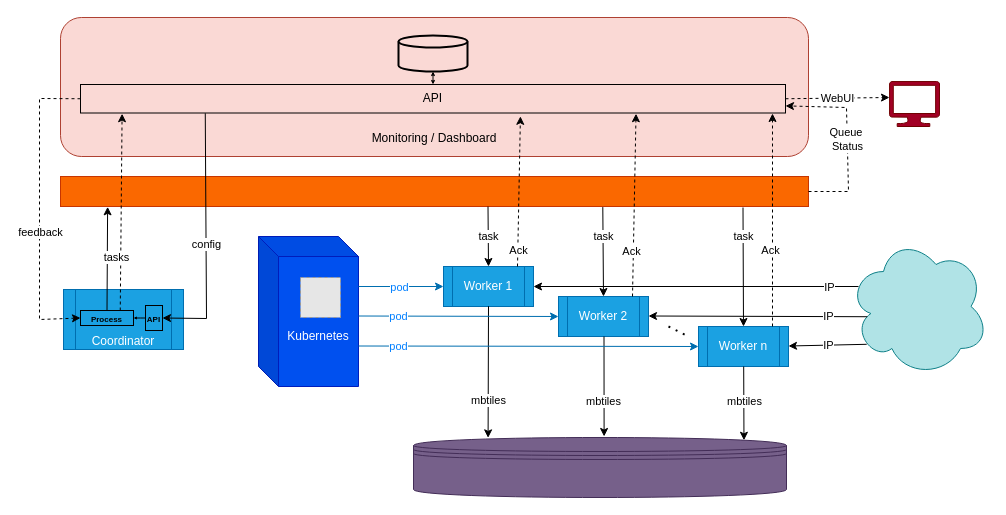
Some shapes in this 1006 by 515 pixel diagram are drawn without their labels. Grey dashed boxes stand in for pictures. The centre of each missing label's shape, as x and y in pixels:
"Data Storage" belongs at (x=599, y=467).
"DataBase" belongs at (x=432, y=53).
"Rotating Proxy Pool" belongs at (x=918, y=306).
"Task Queue" belongs at (x=434, y=191).
